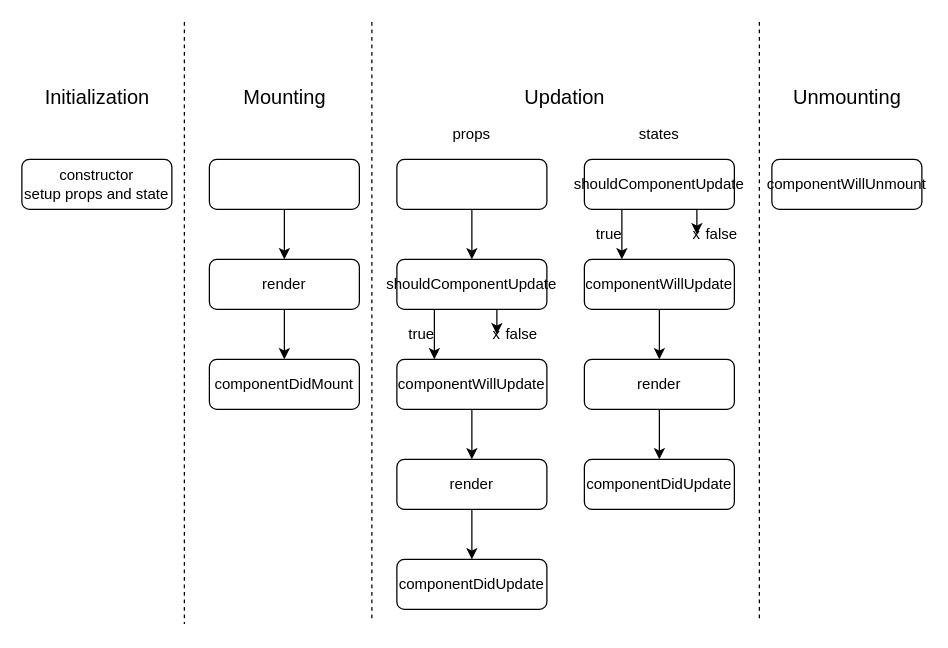
This 948x648 diagram has some shape labels left out. The shapes that lost their labels are listed below. From the top down, each one's centre as x and y in pixels, then its label:
At pixel 283 183: "componentWillMount".
At pixel 471 183: "componentWillReceiveProps".
